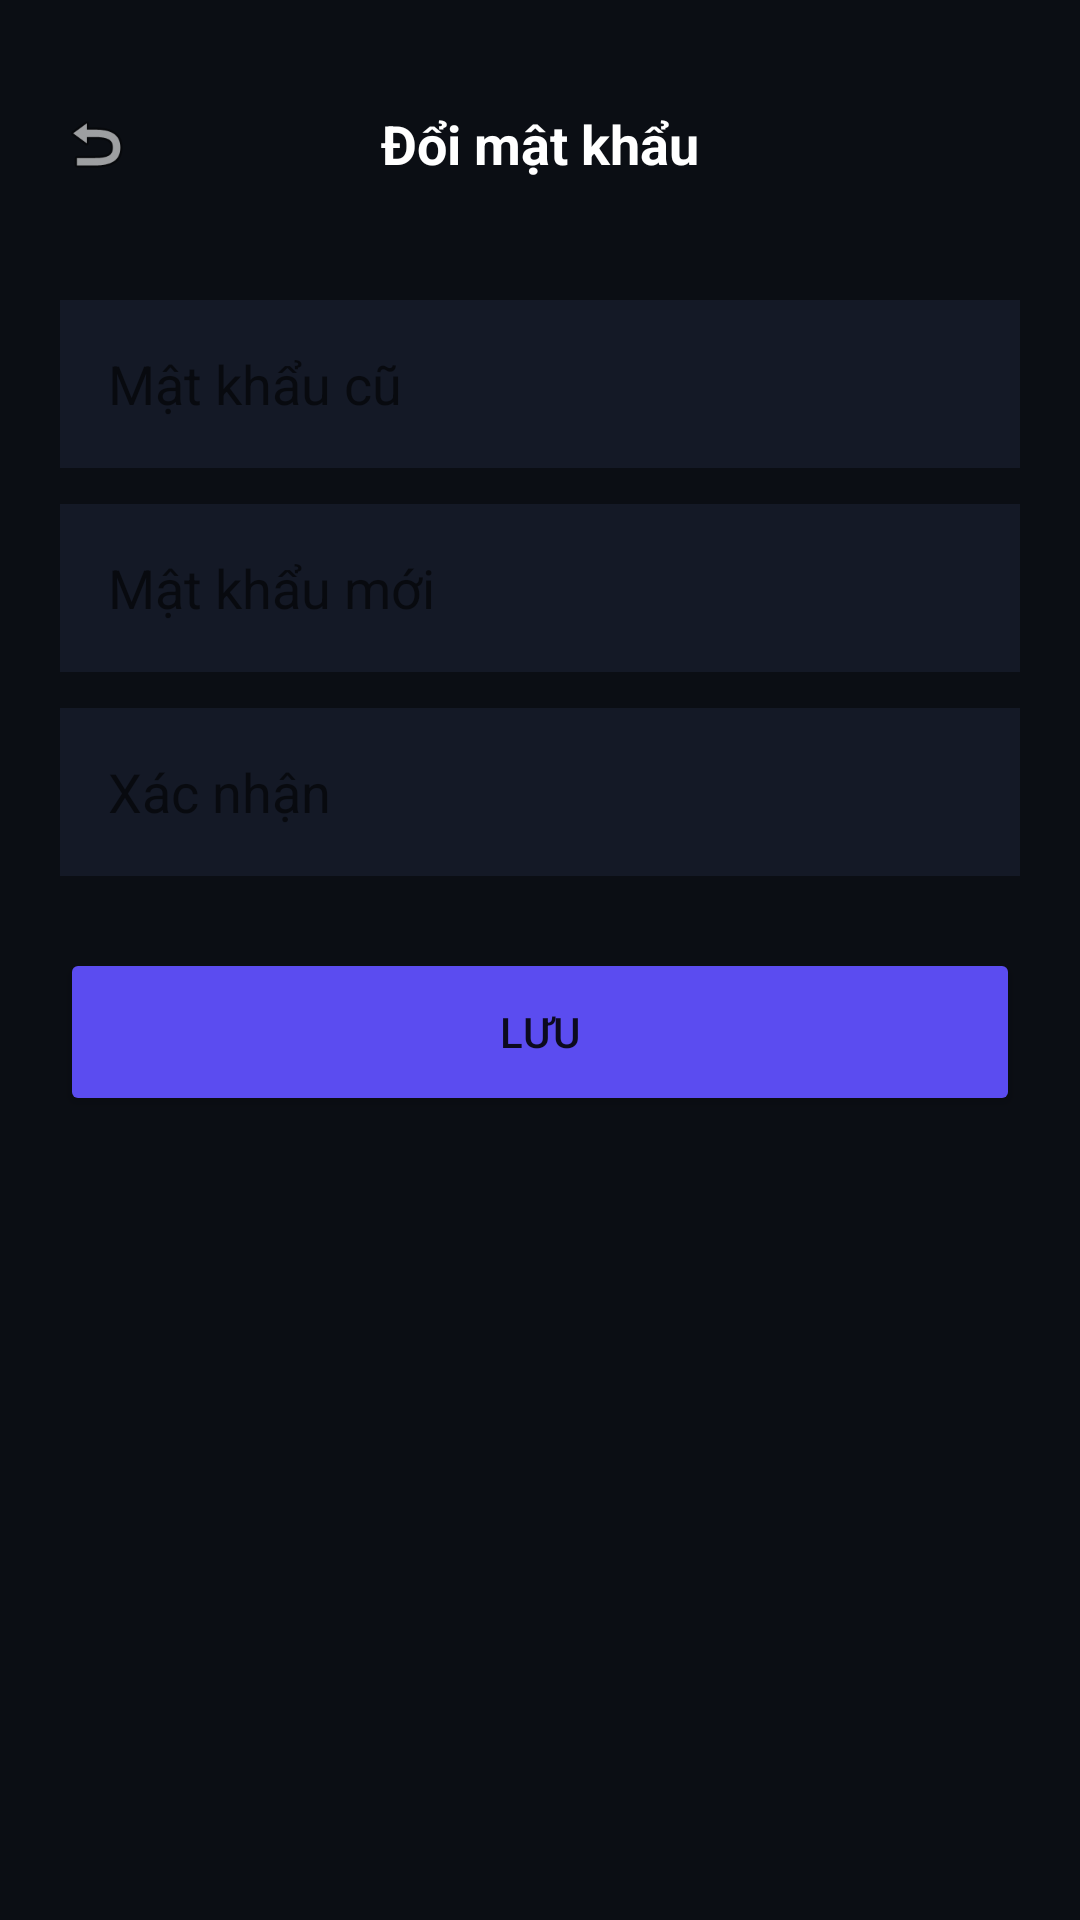

Where icons sit on this 1080x1920 app screen, as (x1, y1, x2, y2):
revert: (73, 123, 121, 166)
